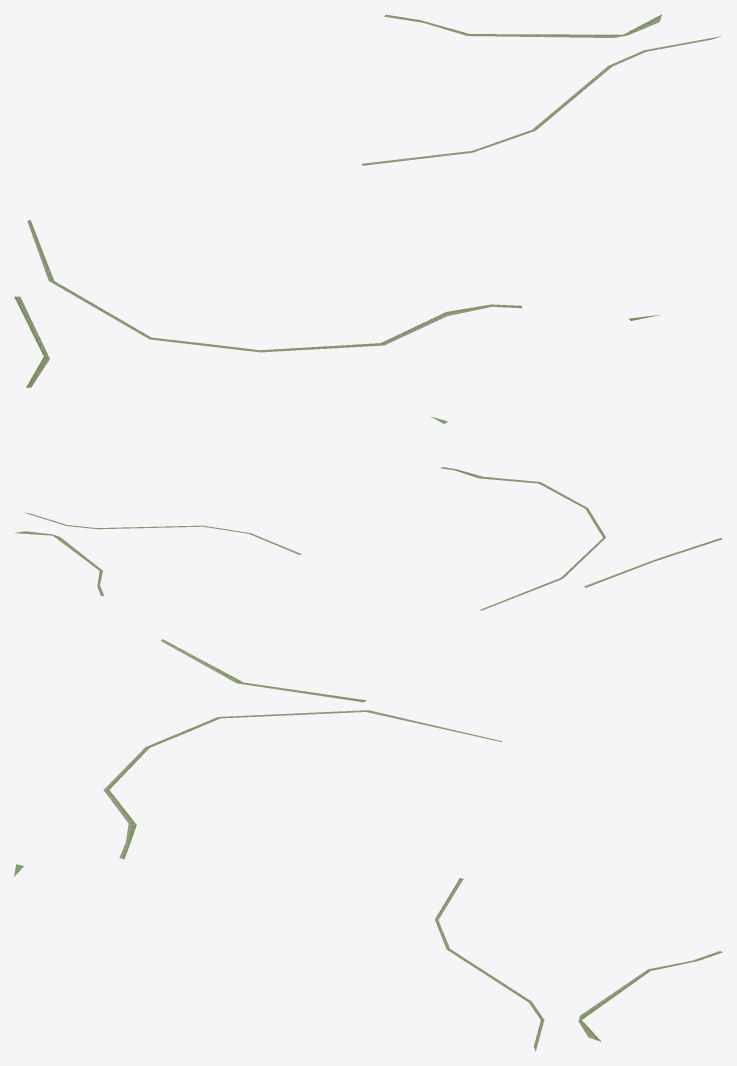
Rendered from kd_stage_13612f_5_53_bounded.glb.
The picture shows the model from 3 angles, top to bottom: view 1: azimuth 30°, elevation 25°; view 2: azimuth 150°, elevation 25°; view 3: azimuth 270°, elevation 25°; orthographic projection. The views are drawn at different scales.
Visible parts, largest first — view 1: kd_stage_13612f_5_53_bounded; view 2: kd_stage_13612f_5_53_bounded; view 3: kd_stage_13612f_5_53_bounded.
Part boxes in pixels (bbox=[...]): kd_stage_13612f_5_53_bounded: bbox=[14, 14, 721, 387]; kd_stage_13612f_5_53_bounded: bbox=[15, 416, 722, 610]; kd_stage_13612f_5_53_bounded: bbox=[14, 639, 722, 1051].
Bounding box in the file's own units: 8.6 × 0.22 × 6.59.
1 material, 1 textured.
